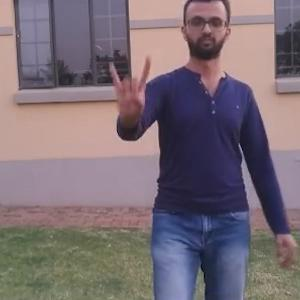takeoff-hand: (103, 52, 155, 118)
